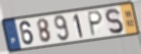1: (73, 13, 84, 39)
6: (19, 20, 35, 47)
8: (36, 18, 52, 44)
9: (53, 14, 71, 42)
P: (87, 10, 104, 38)
S: (104, 8, 125, 36)
